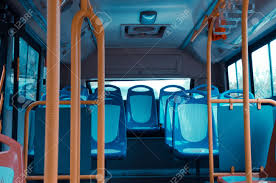seat: (177, 92, 218, 160)
